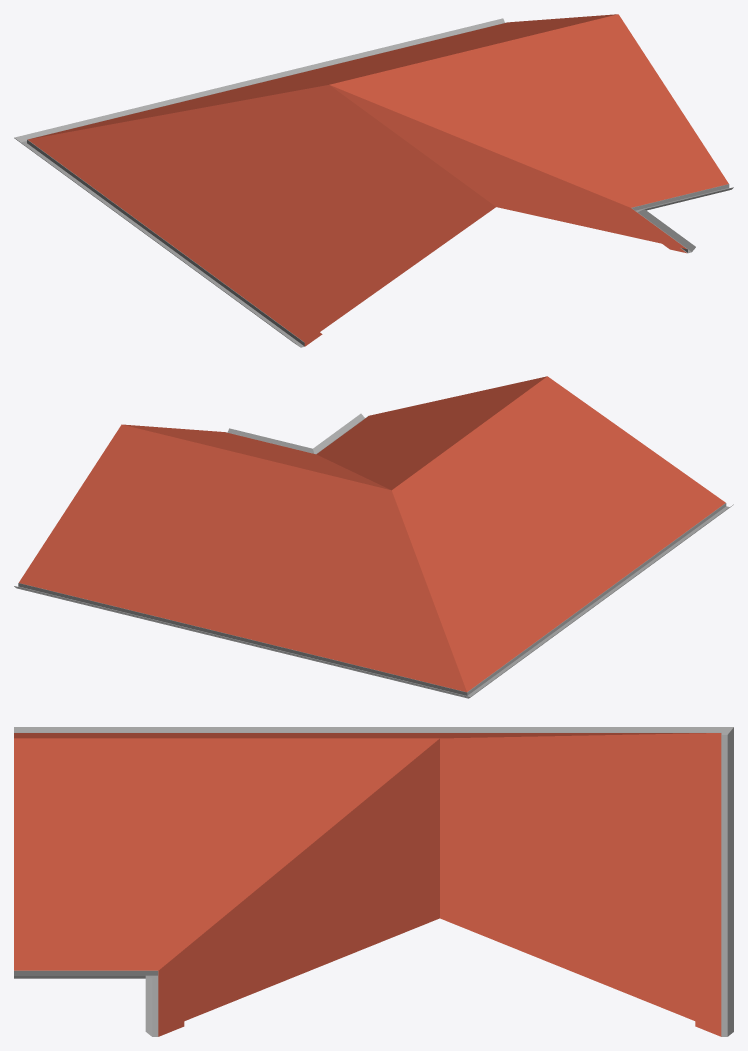
File: MESH_ENV(Telhado_12x12_Formato_L).fbx
3 renders of one model, top to bottom at view 1: azimuth 30°, elevation 25°; view 2: azimuth 150°, elevation 25°; view 3: azimuth 270°, elevation 25°, orthographic. The views are drawn at different scales.
Visible parts, largest first — view 1: MESH_ENV(Telhado_12x12_Formato_L)_LOD0; view 2: MESH_ENV(Telhado_12x12_Formato_L)_LOD0; view 3: MESH_ENV(Telhado_12x12_Formato_L)_LOD0.
Boxes of the visible parts, bbox=[...] form: MESH_ENV(Telhado_12x12_Formato_L)_LOD0: bbox=[14, 14, 733, 347]; MESH_ENV(Telhado_12x12_Formato_L)_LOD0: bbox=[14, 376, 733, 698]; MESH_ENV(Telhado_12x12_Formato_L)_LOD0: bbox=[14, 727, 733, 1036].
Bounding box in the file's own units: 1268 × 230 × 1268.
